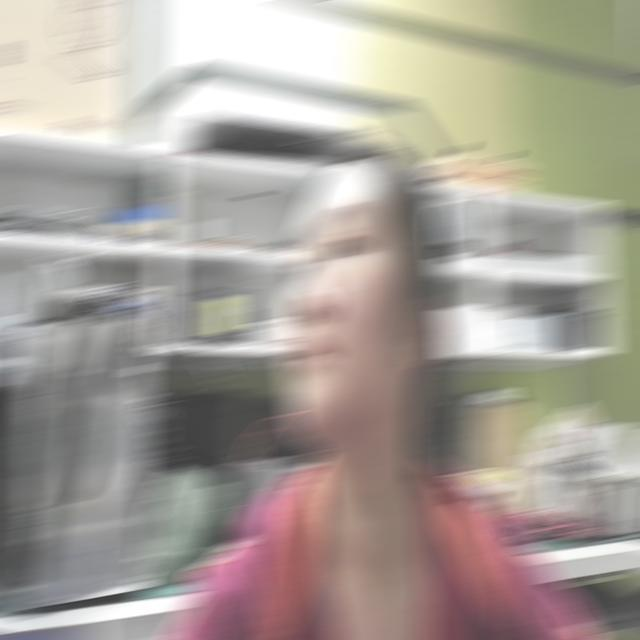Without Helmet: (244, 111, 493, 527)
